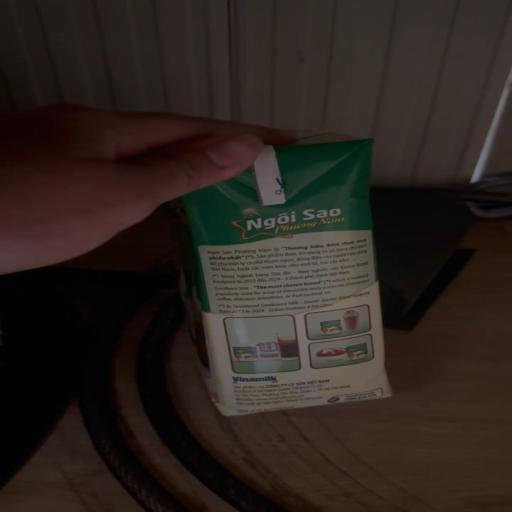ly_giay: (178, 135, 390, 416)
